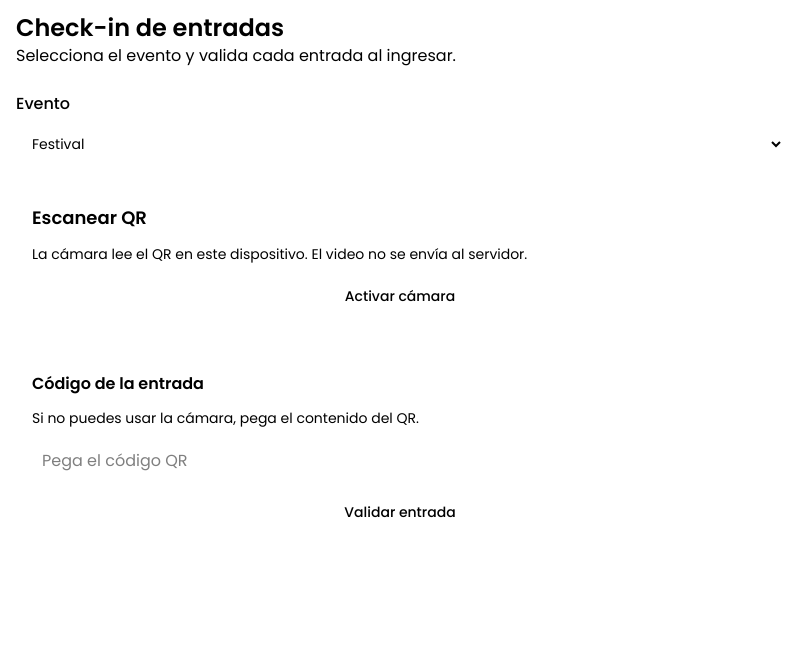
Test case: Check-in con QR › no confirma el ingreso antes del servidor y bloquea un envío repetido
In the field labelled "Código de la entrada": (400, 460) [32,440,768,480], type "code"
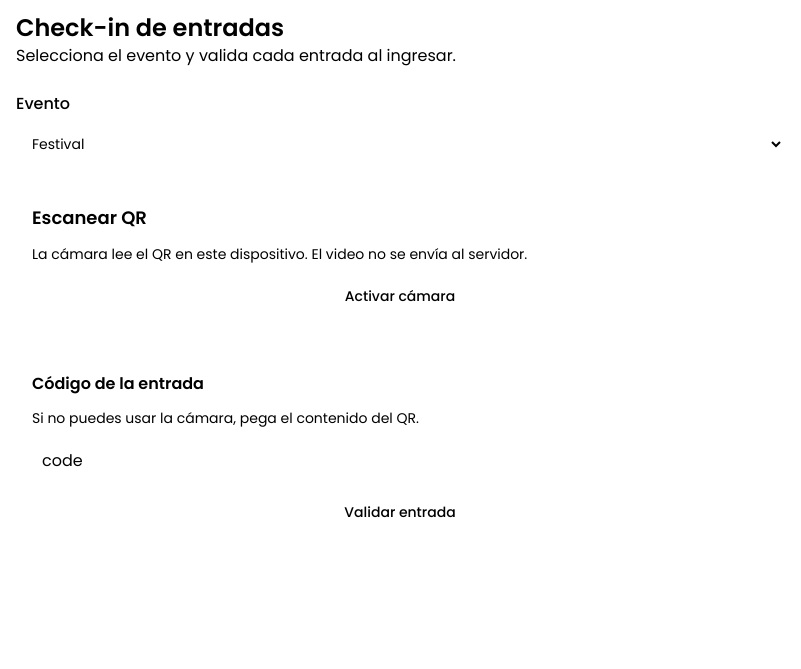
Click the button "Validar entrada": click(400, 512) [32,492,768,532]
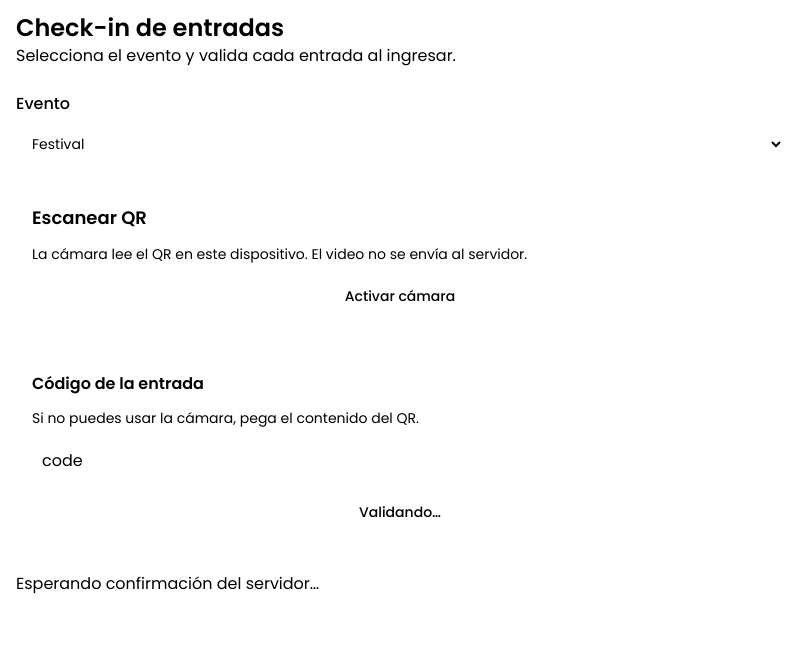
Click the button named "Validar entrada": click(400, 512) [32,492,768,532]
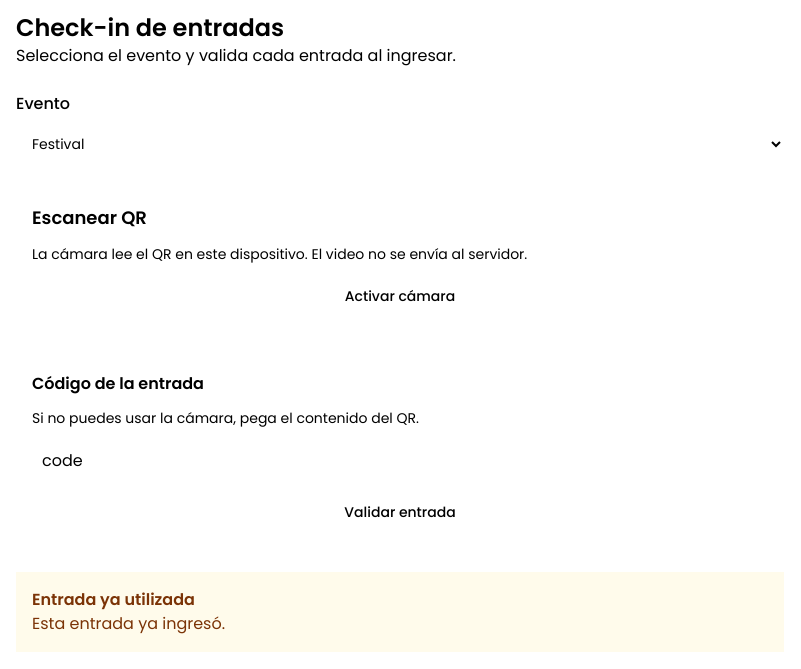
Result: the text "Entrada ya utilizada" is shown at [32,588,195,611]
